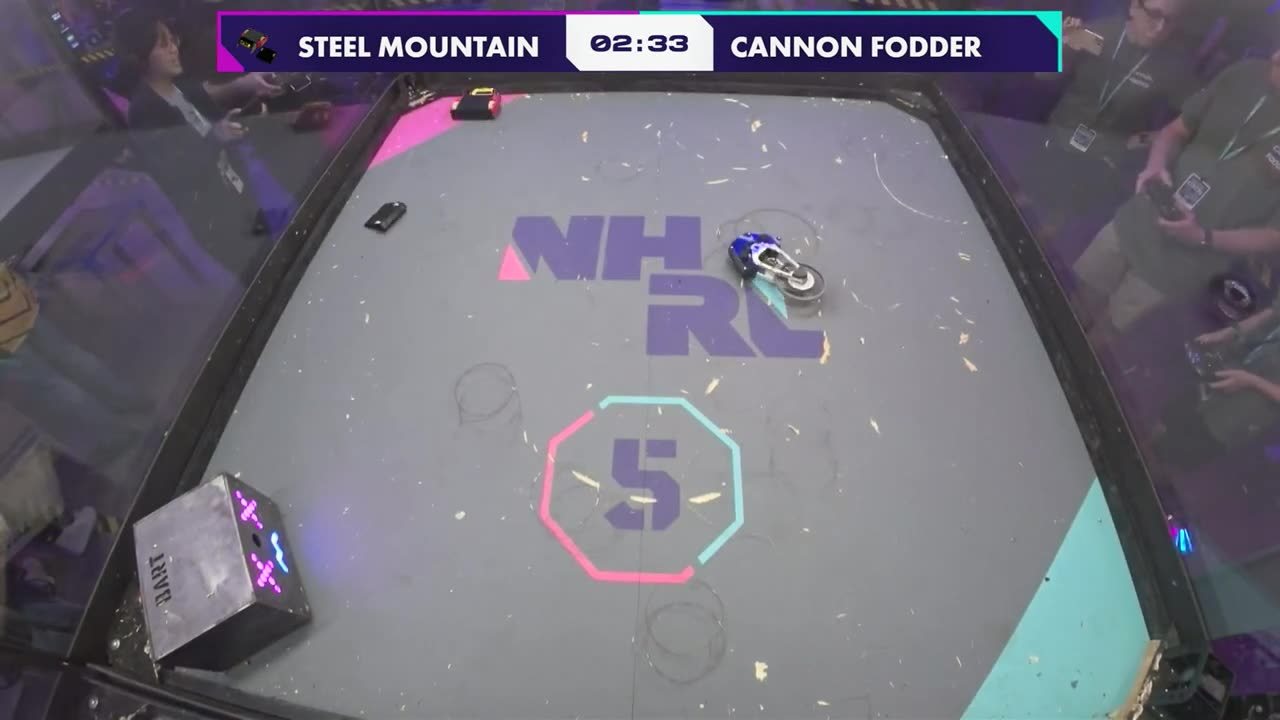combatbot: (728, 229, 827, 311), (447, 88, 504, 123), (363, 200, 409, 236)
housebot: (125, 472, 313, 673)
